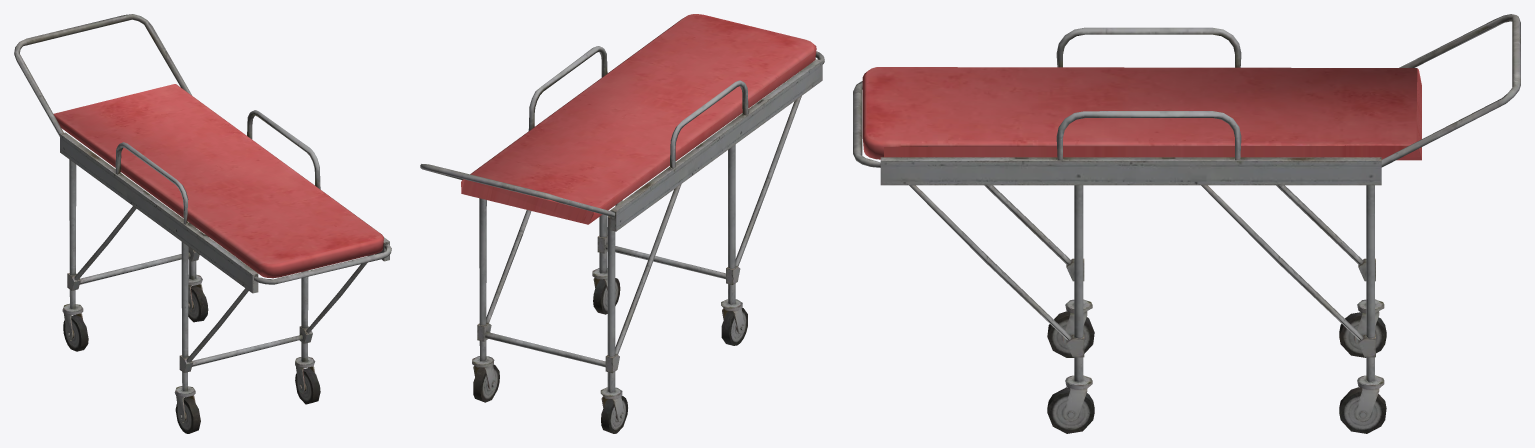
File: stretcher.lod0.glb
3 renders of one model, left to right at view 1: azimuth 30°, elevation 25°; view 2: azimuth 150°, elevation 25°; view 3: azimuth 270°, elevation 25°, orthographic. The views are drawn at different scales.
Parts seen in each view (by area): view 1: Stretcher_Material #82_0; view 2: Stretcher_Material #82_0; view 3: Stretcher_Material #82_0.
Part boxes in pixels (left/top/right/bottom): Stretcher_Material #82_0: left=14, top=14, right=391, bottom=433; Stretcher_Material #82_0: left=420, top=14, right=824, bottom=433; Stretcher_Material #82_0: left=853, top=14, right=1520, bottom=433.
Size of the model in its own units: 0.6798 by 1.25 by 2.2.
1 material, 1 textured.
